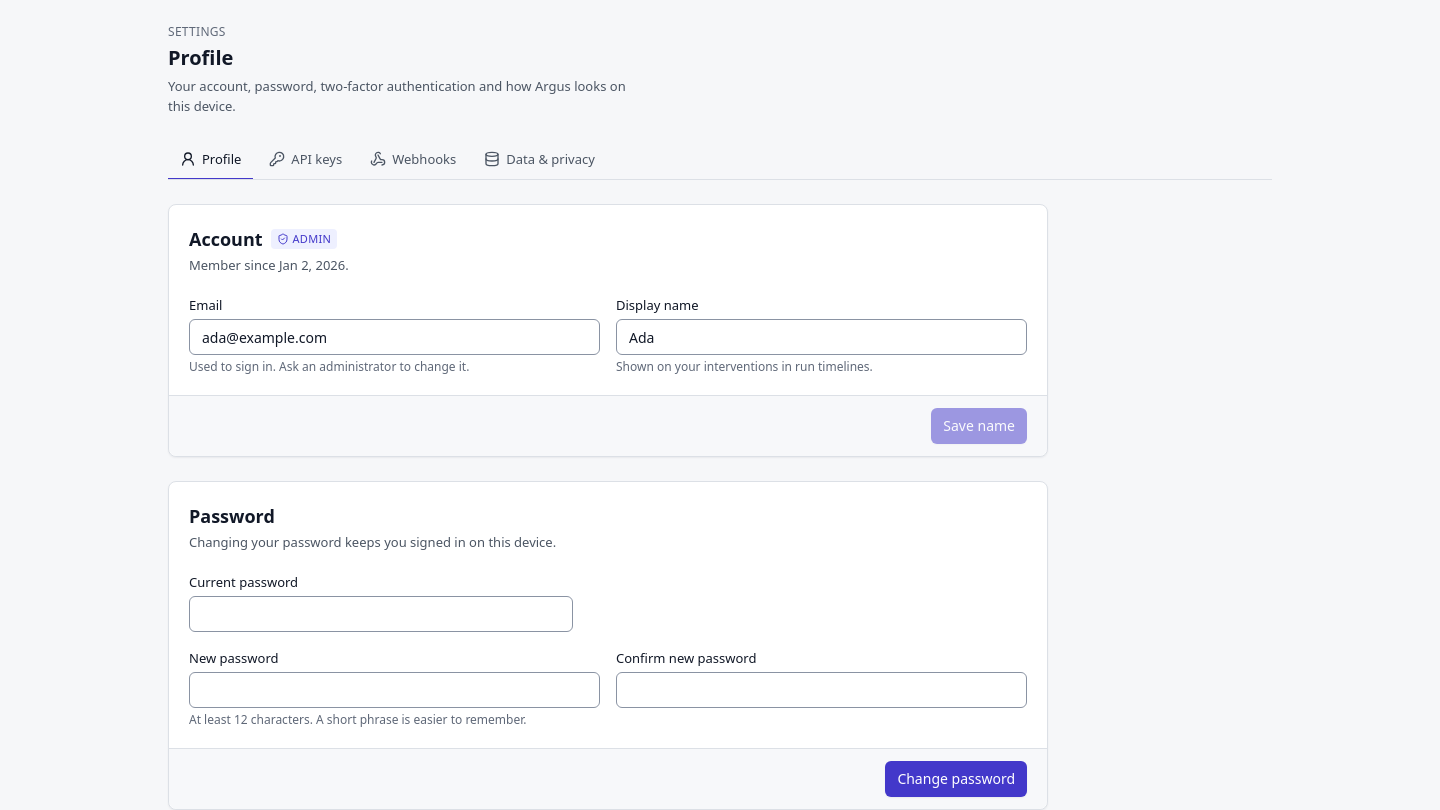
Test case: Profile › blocks a password change client-side when the confirmation does not match
Step 1. Type "old-password-123" into the password field labelled "Current password" → (381, 614), box [189, 596, 573, 632]
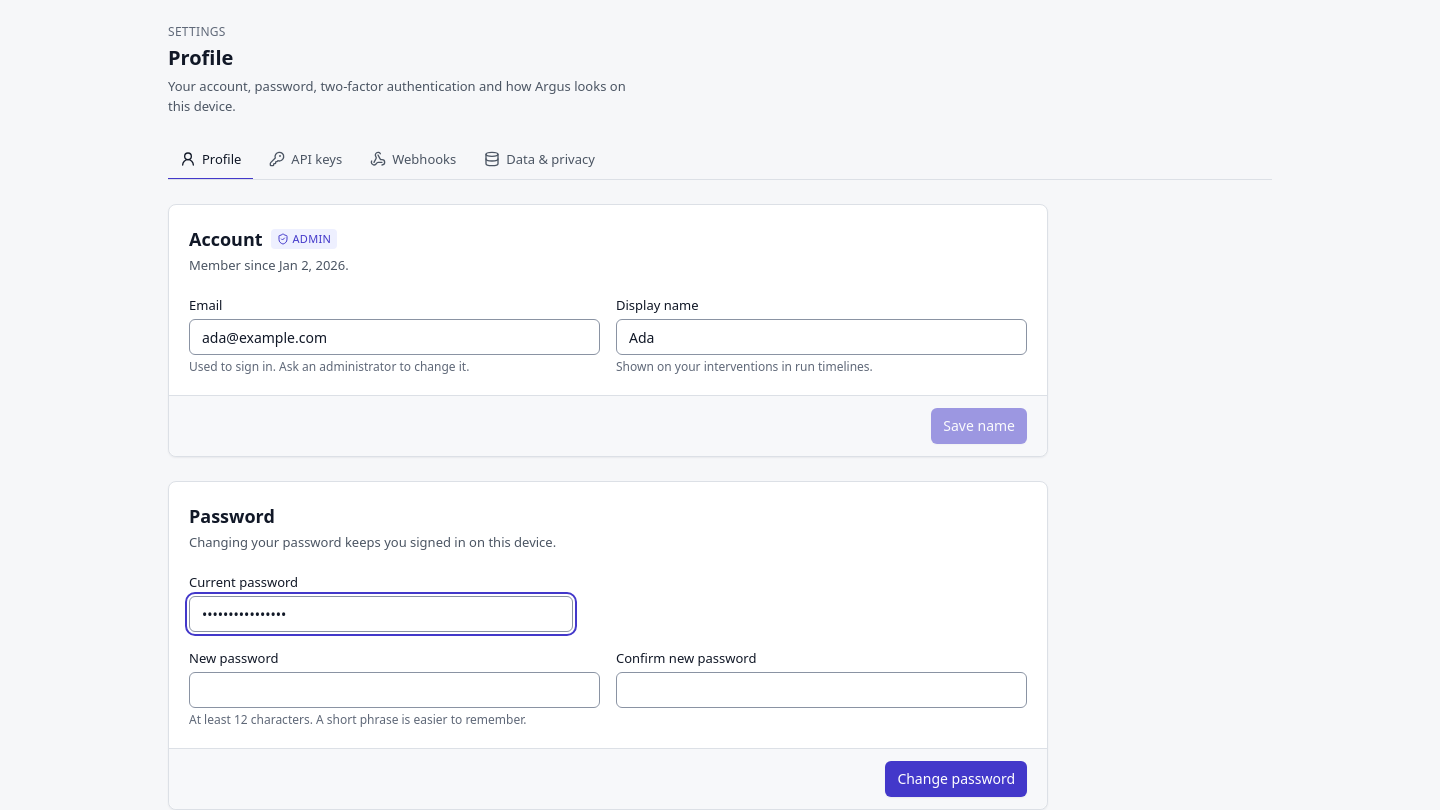
Step 2. Type "brand-new-password-1" into the password field labelled "New password" → (394, 690), box [189, 672, 600, 708]
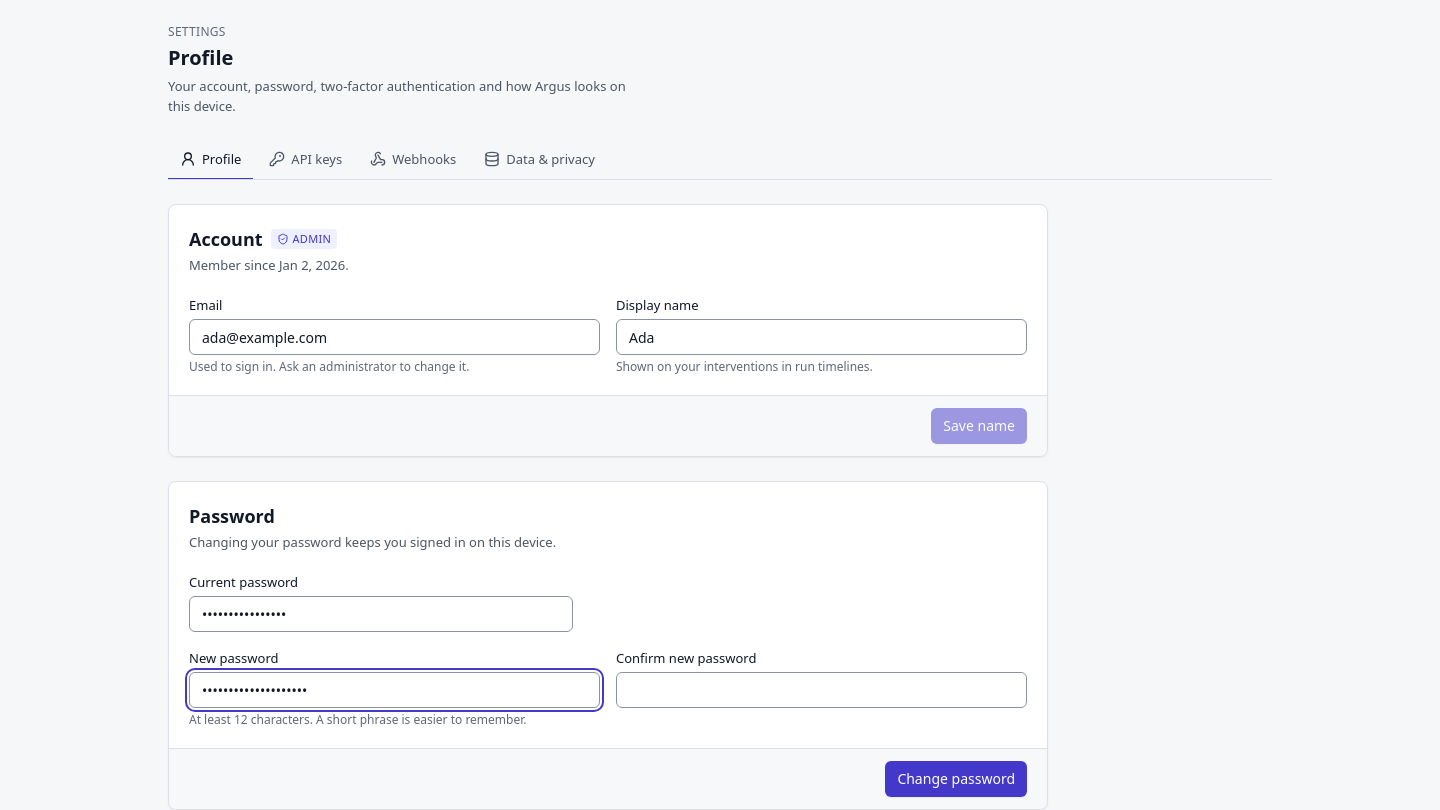
Step 3. Type "brand-new-password-2" into the password field labelled "Confirm new password" → (822, 690), box [616, 672, 1027, 708]
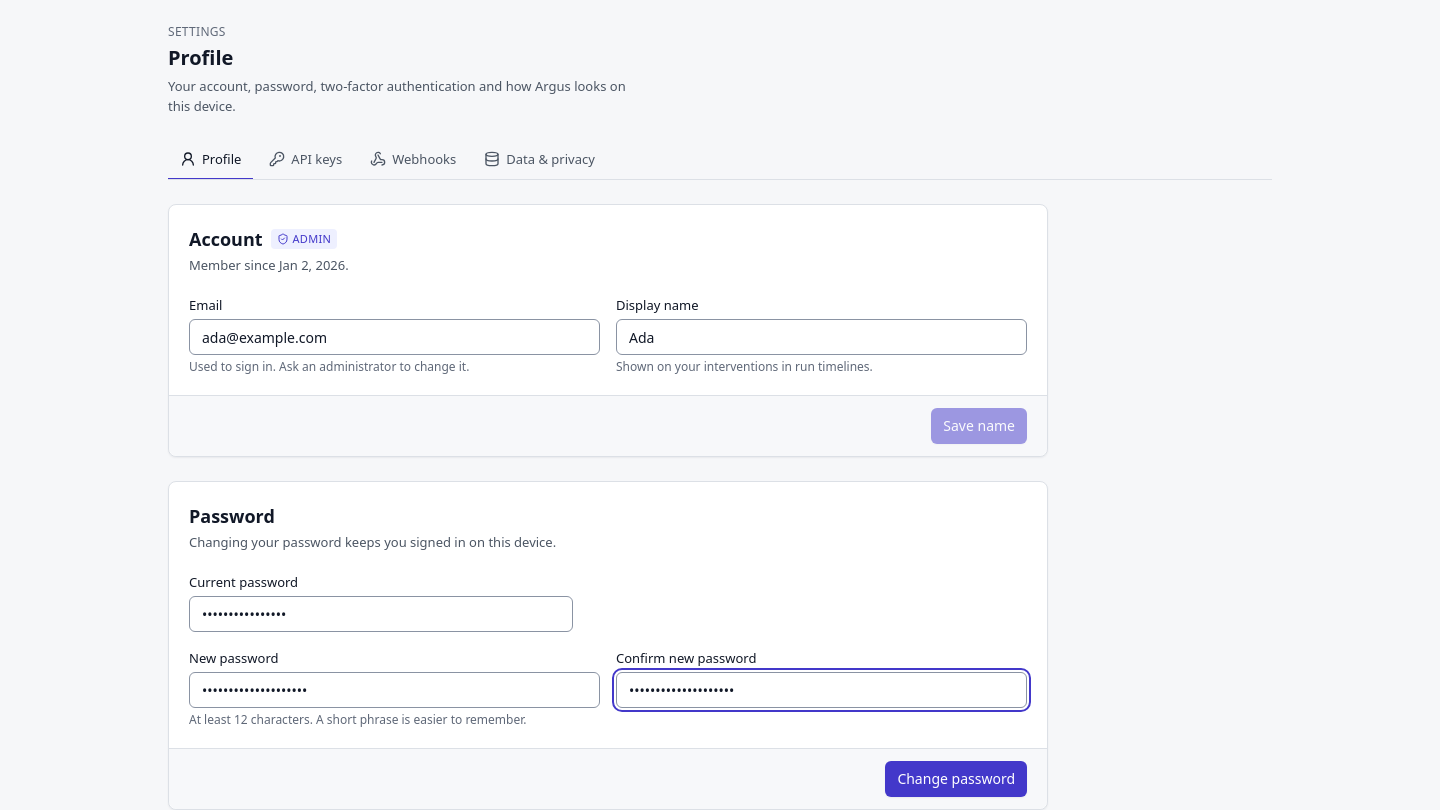
Step 4. Click the button "Change password" → (956, 779), box [885, 761, 1027, 797]
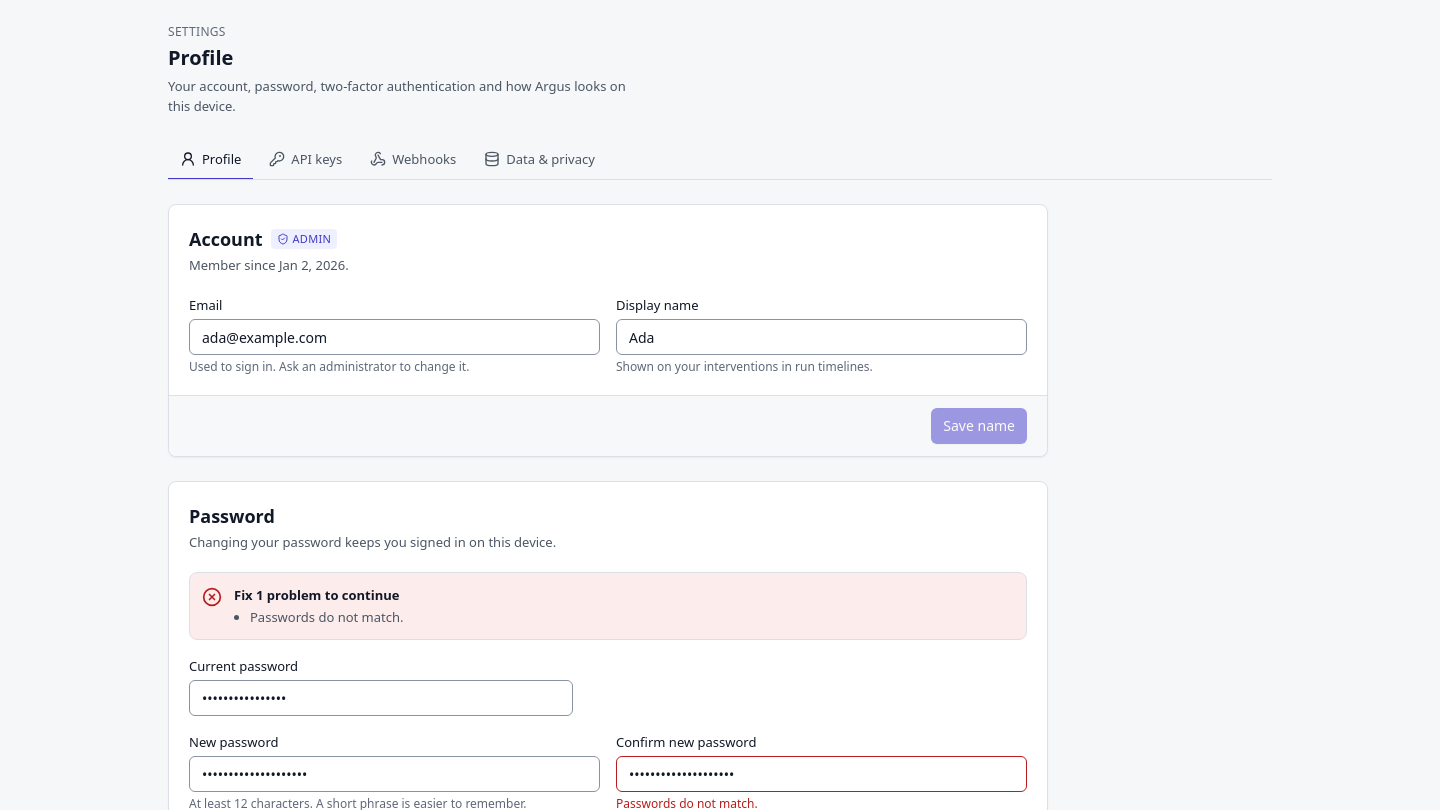
expect the list item "Passwords do not match." is shown: met, box [250, 608, 404, 626]
